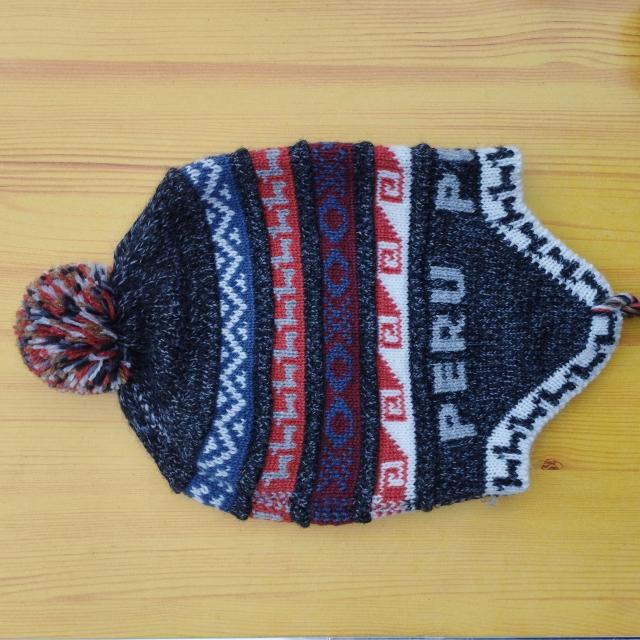Gorro: (14, 139, 636, 527)
